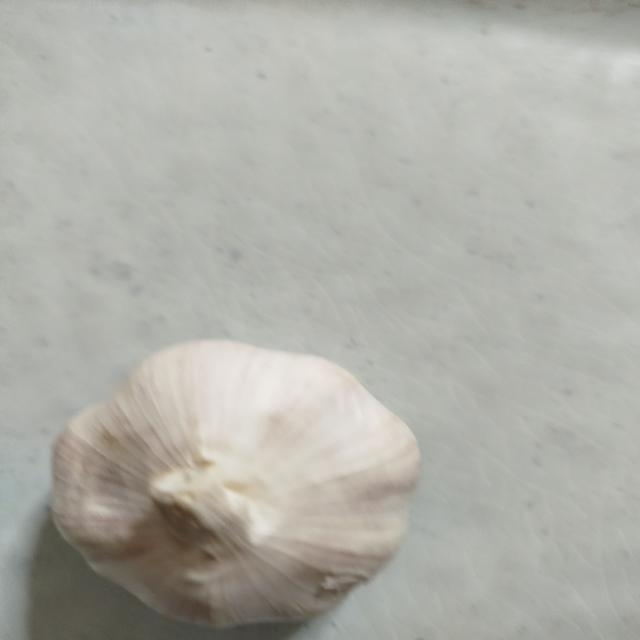garlic: (48, 338, 422, 630)
